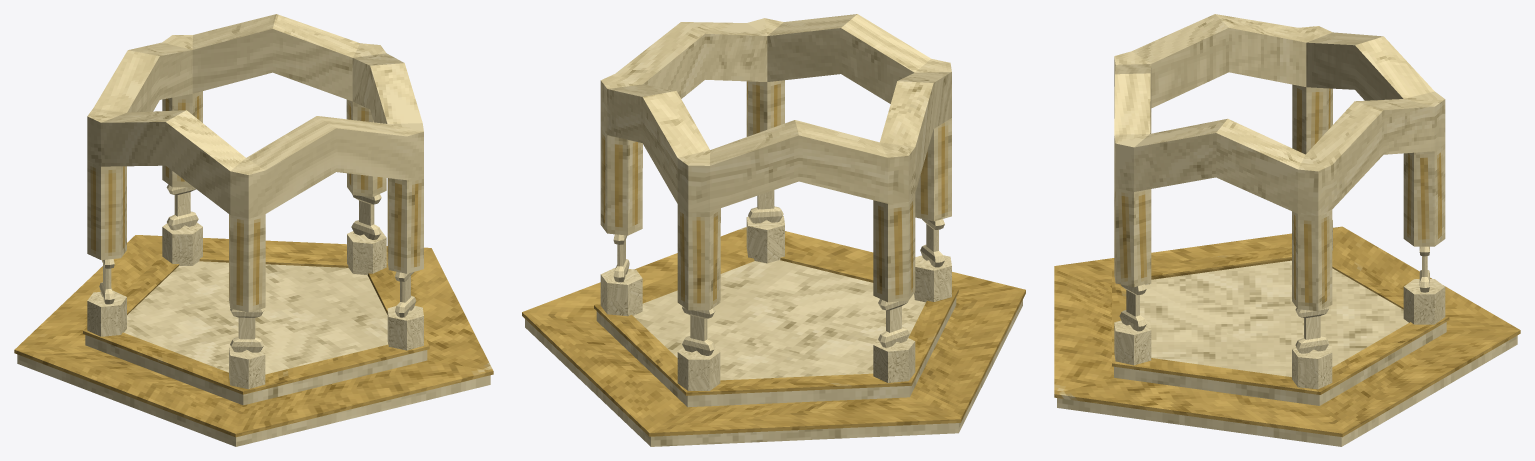
File: temploo.fbx
3 views of the same model, side by side, from view 1: azimuth 30°, elevation 25°; view 2: azimuth 150°, elevation 25°; view 3: azimuth 270°, elevation 25° (orthographic). The views are drawn at different scales.
Visible parts, largest first — view 1: chão, Cylinder.007, Cylinder.006, Cylinder.008, Cylinder.004, Cylinder, Cylinder.002, Cube.001, Cube.004, Cube.002, Cube, Cube.003; view 2: chão, Cylinder.007, Cylinder.004, Cylinder.008, Cylinder.006, Cylinder, Cylinder.002, Cube.004, Cube.003, Cube.001, Cube, Cube.002; view 3: chão, Cylinder.007, Cylinder.008, Cylinder.004, Cylinder, Cube.002, Cube.
Part boxes in pixels (box(x1,y1,x2,y2)): chão: box(14, 235, 493, 446); Cylinder.007: box(87, 14, 423, 312); Cylinder.006: box(87, 290, 126, 336); Cylinder.008: box(162, 222, 202, 265); Cylinder.004: box(347, 230, 386, 274); Cylinder: box(387, 306, 423, 350); Cylinder.002: box(229, 346, 265, 389); Cube.001: box(230, 308, 263, 352); Cube.004: box(166, 184, 198, 230); Cube.002: box(351, 194, 381, 239); Cube: box(395, 271, 416, 317); Cube.003: box(99, 259, 114, 304); chão: box(522, 227, 1025, 446); Cylinder.007: box(600, 14, 951, 310); Cylinder.004: box(600, 267, 642, 316); Cylinder.008: box(677, 347, 720, 390); Cylinder.006: box(873, 338, 915, 382); Cylinder: box(746, 216, 784, 263); Cylinder.002: box(914, 255, 951, 302); Cube.004: box(682, 306, 715, 355); Cube.003: box(878, 299, 909, 347); Cube.001: box(920, 219, 944, 267); Cube: box(748, 190, 783, 223); Cube.002: box(613, 234, 629, 282); chão: box(1054, 226, 1520, 446); Cylinder.007: box(1114, 14, 1445, 311); Cylinder.008: box(1403, 279, 1445, 324); Cylinder.004: box(1292, 347, 1332, 389); Cylinder: box(1114, 320, 1151, 365); Cube.002: box(1295, 306, 1328, 353); Cube: box(1119, 284, 1146, 331).
Size of the model in its own units: 11823 by 7215 by 11244.
